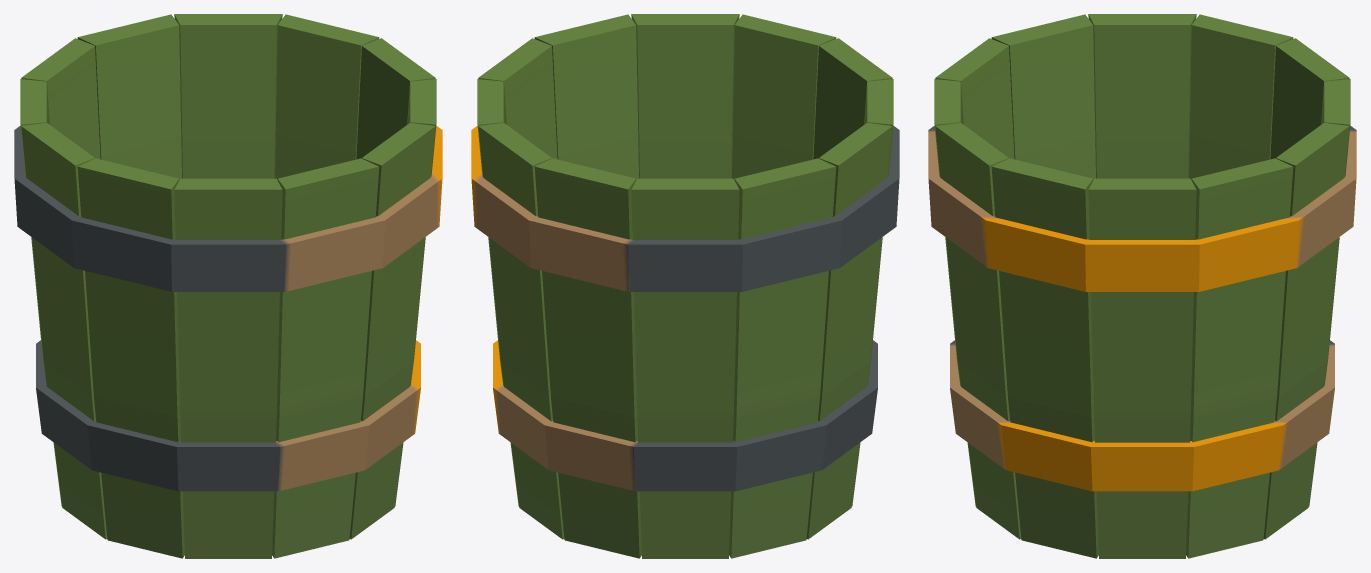
The model's file is Bucket_01.fbx.
3 views of the same model, side by side, from view 1: azimuth 30°, elevation 25°; view 2: azimuth 150°, elevation 25°; view 3: azimuth 270°, elevation 25° (orthographic).
Parts seen in each view (by area): view 1: Bucket_01; view 2: Bucket_01; view 3: Bucket_01.
Boxes of the visible parts, box(x1,y1,x2,y2) form: Bucket_01: box(14, 14, 442, 558); Bucket_01: box(471, 14, 899, 558); Bucket_01: box(928, 14, 1356, 558).
Bounding box in the file's own units: 0.4337 × 0.4322 × 0.4337.
